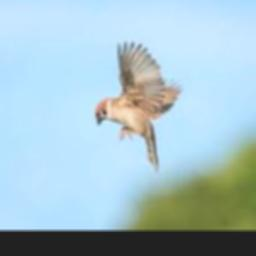Sparrow: (94, 41, 181, 172)
